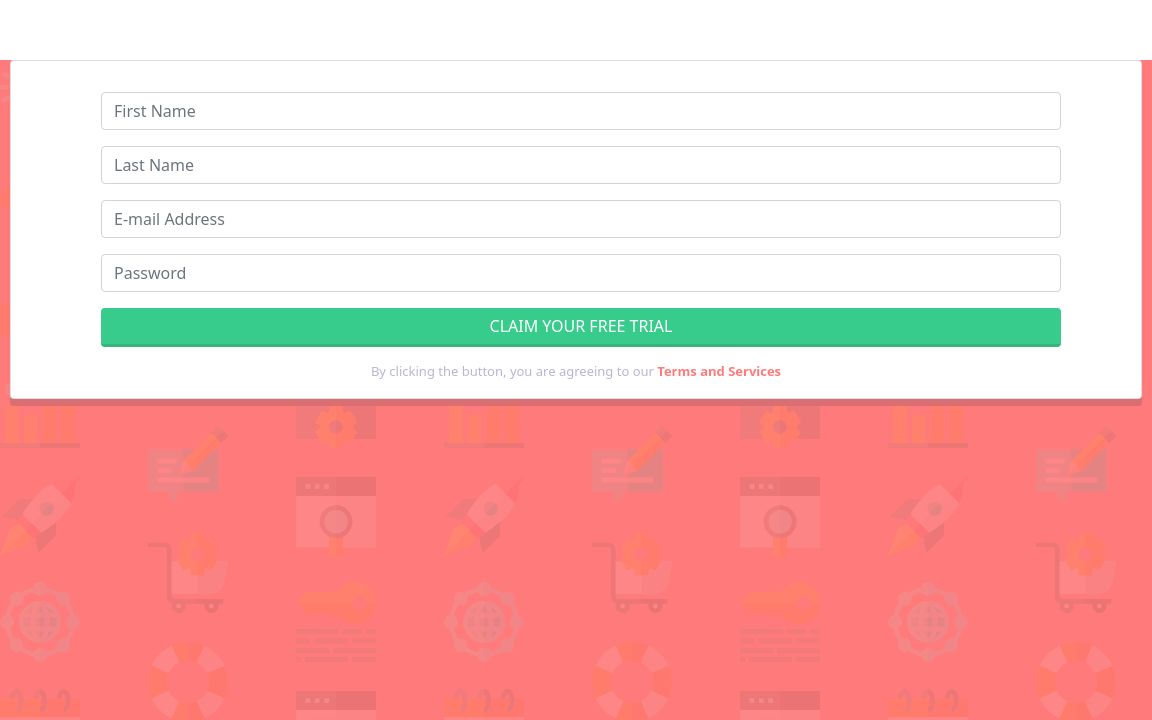
Test: error messages disappear when input changes
Click the button with test id "submit" at (581, 328), box [101, 308, 1061, 347]
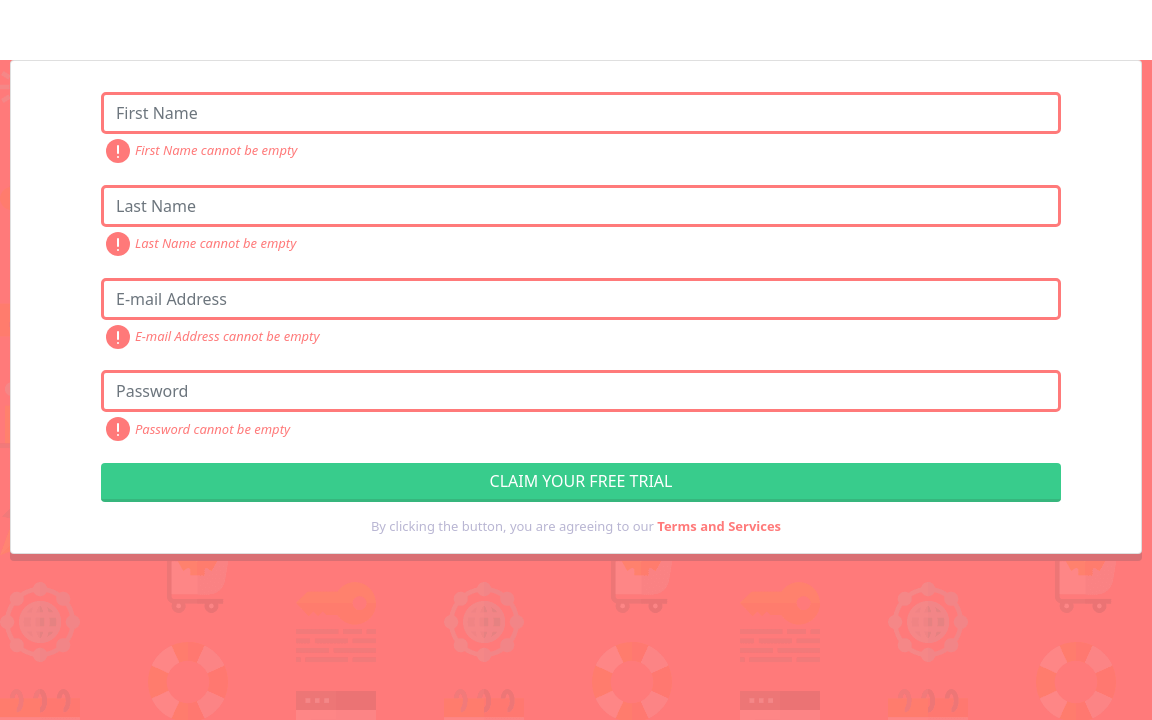
error appears - already tested
Type "something" into the field with test id "firstName" at (581, 113), box [101, 92, 1061, 134]
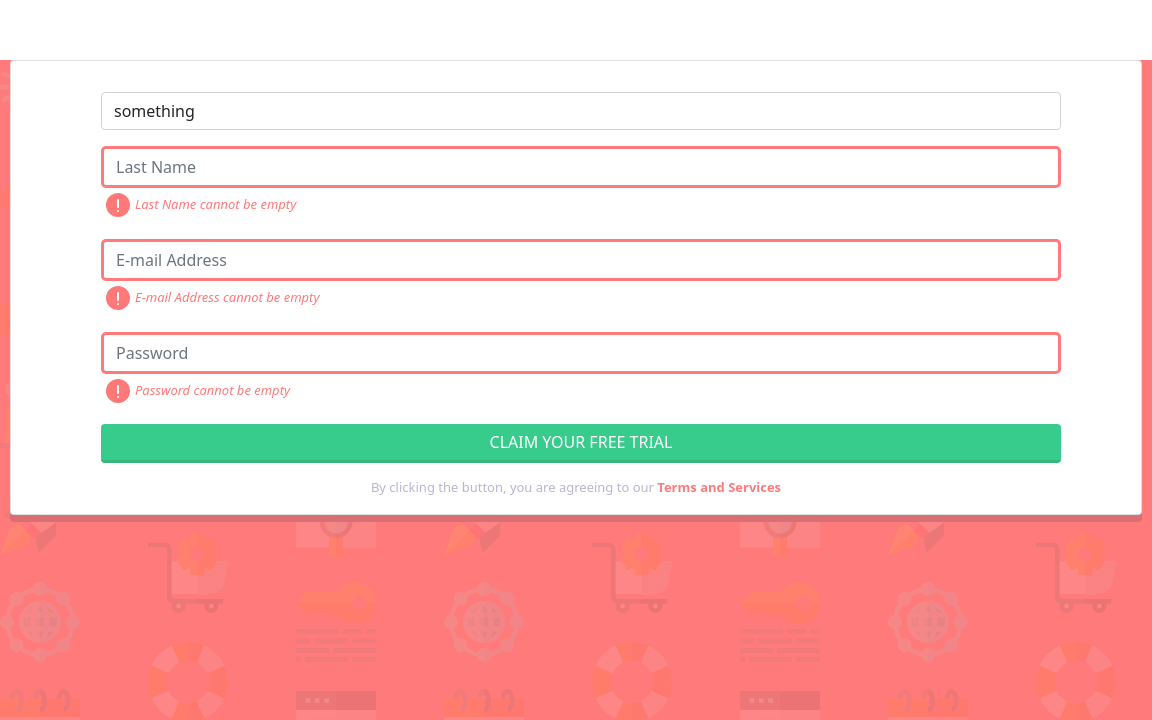
Check: the label with test id "errmsgfirstName" is gone
